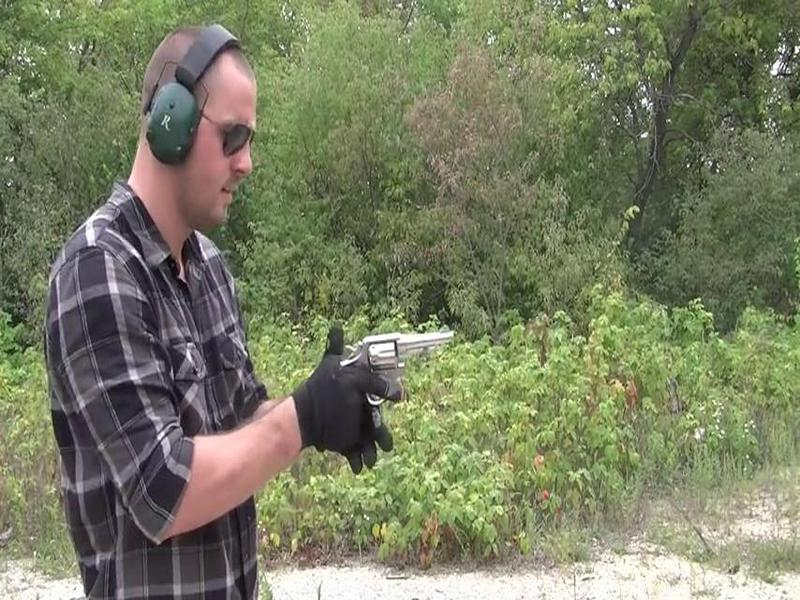Revolver: (337, 323, 472, 414)
